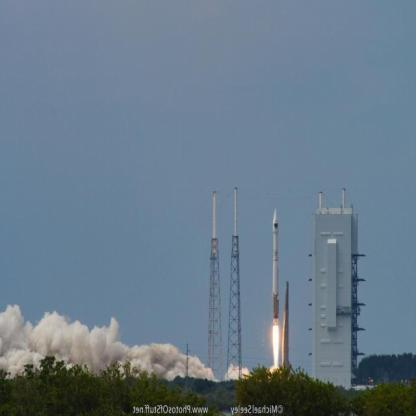MIL_TBM: (280, 280, 294, 373), (271, 208, 280, 326), (210, 192, 218, 240), (233, 186, 238, 238), (340, 188, 346, 211), (318, 190, 322, 210)
